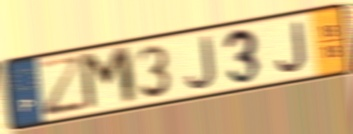3: (222, 25, 267, 88), (136, 43, 172, 100)
J: (274, 19, 309, 74), (184, 34, 217, 91)
M: (76, 43, 141, 114)
Z: (35, 54, 90, 121)
